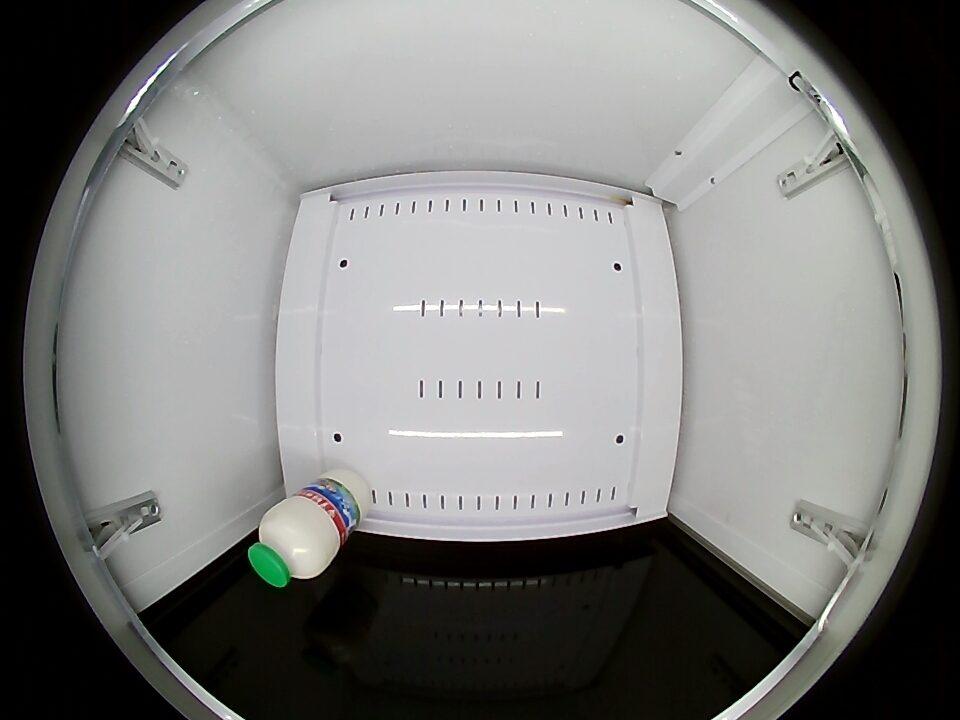liziyuan: (248, 493, 343, 588)
